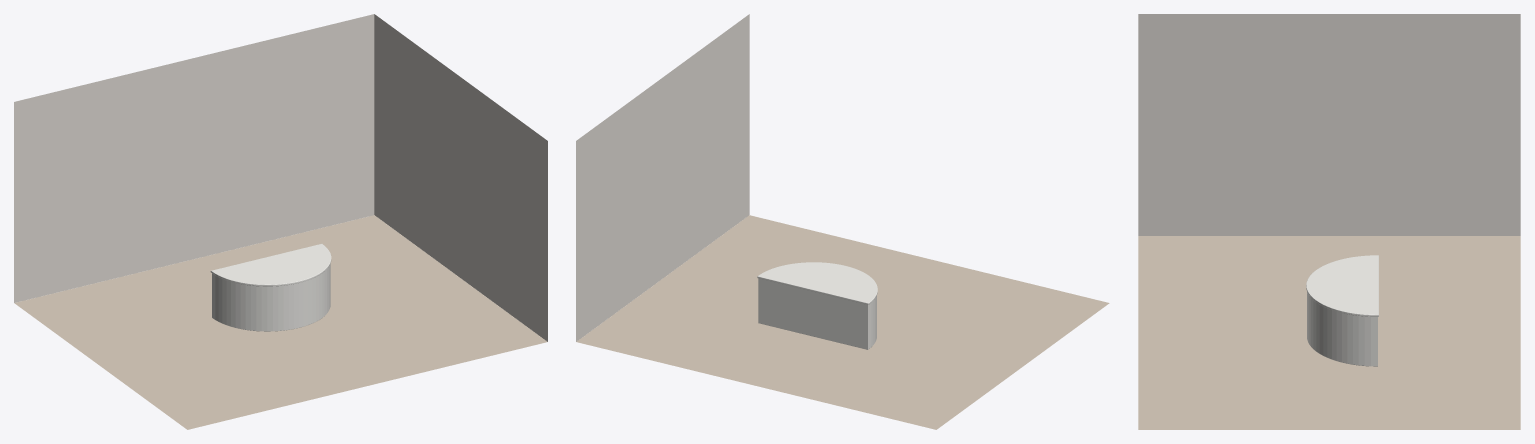
File: mesa-media_luna.glb
3 renders of one model, left to right at view 1: azimuth 30°, elevation 25°; view 2: azimuth 150°, elevation 25°; view 3: azimuth 270°, elevation 25°, orthographic. The views are drawn at different scales.
Visible parts, largest first — view 1: sala, decoracion; view 2: sala, decoracion; view 3: sala, decoracion.
Part boxes in pixels (bbox=[...]): sala: bbox=[14, 14, 547, 429]; decoracion: bbox=[210, 243, 331, 331]; sala: bbox=[576, 14, 1109, 429]; decoracion: bbox=[757, 262, 877, 349]; sala: bbox=[1138, 14, 1520, 429]; decoracion: bbox=[1306, 255, 1378, 366].
Size of the model in its own units: 6 by 3.2 by 5.
